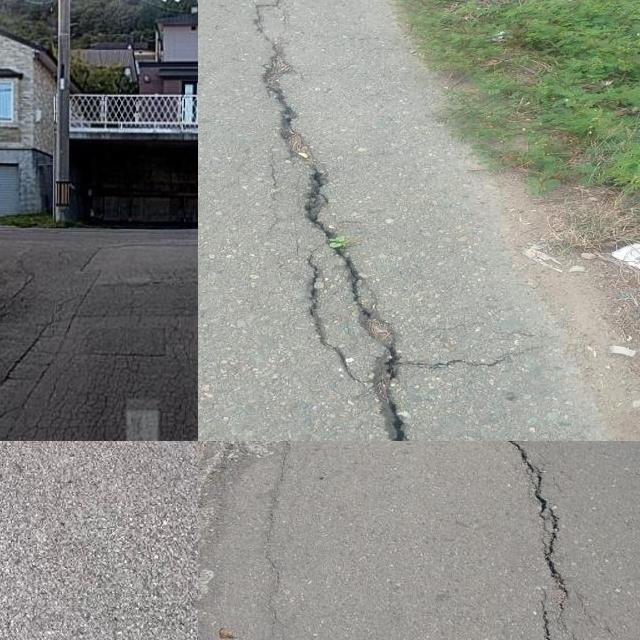Memanjang: (234, 0, 445, 441), (481, 441, 598, 640)
Retak Buaya: (32, 339, 198, 441)
